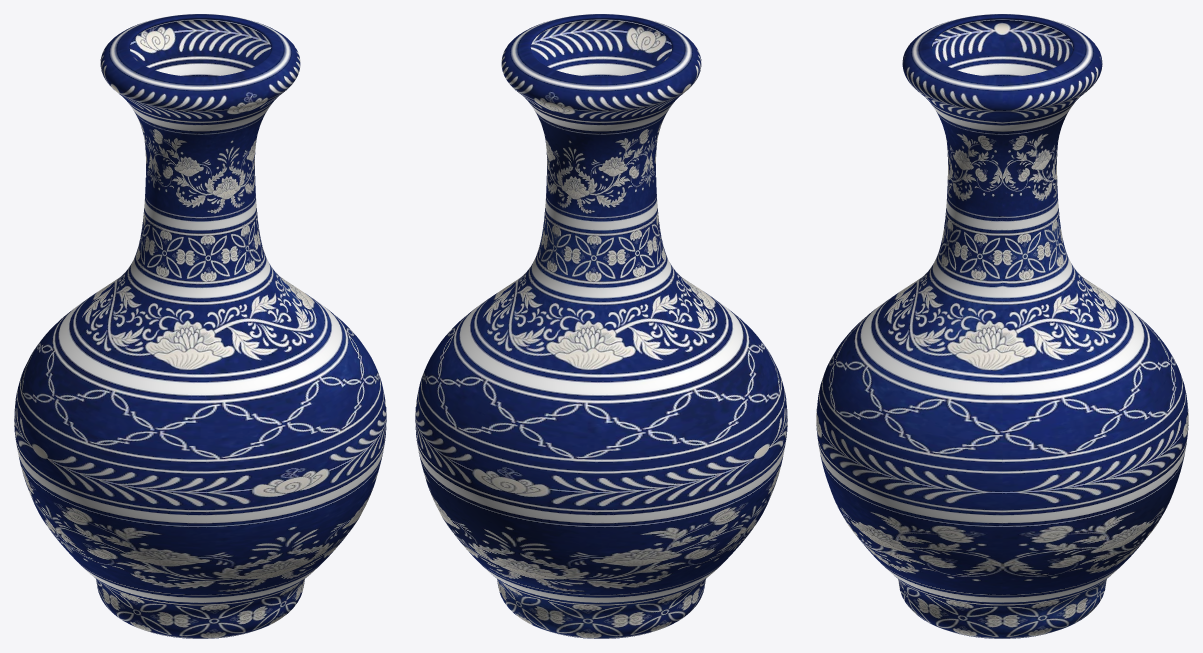
The model's file is vaso1.fbx.
3 views of the same model, side by side, from view 1: azimuth 30°, elevation 25°; view 2: azimuth 150°, elevation 25°; view 3: azimuth 270°, elevation 25° (orthographic).
Visible parts, largest first — view 1: Plane.001; view 2: Plane.001; view 3: Plane.001.
Boxes of the visible parts, <box> form: Plane.001: <box>14,14,386,638</box>; Plane.001: <box>415,14,787,638</box>; Plane.001: <box>816,14,1188,638</box>.
Size of the model in its own units: 64.29 by 109 by 64.29.
Materials: 1 (1 with a texture image).
